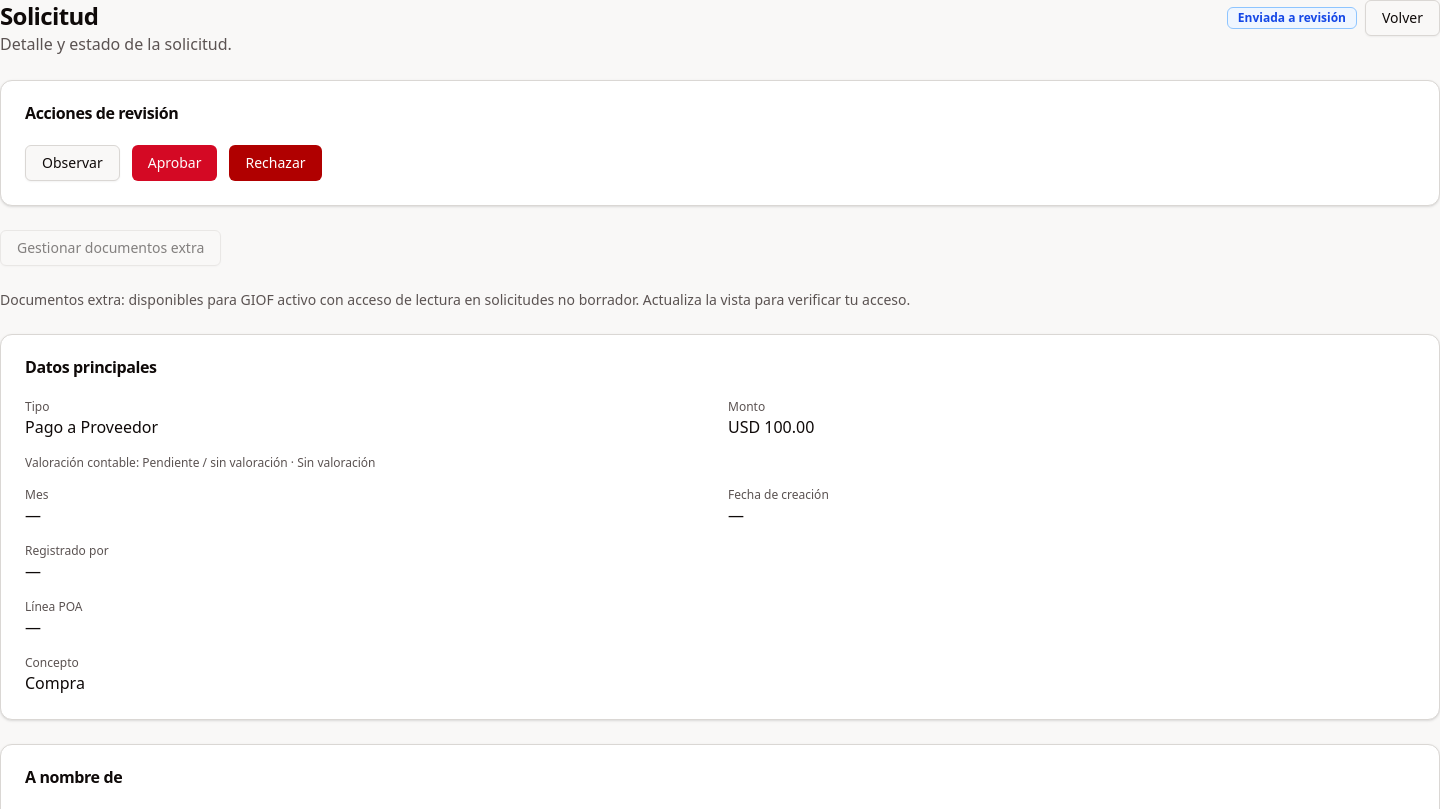
Test: ordinary USD approval manual FX › directs monthly missing-reference errors to Manager without a manual fallback
Step 1. Click the button "Aprobar" → (175, 163), box [132,145,218,181]
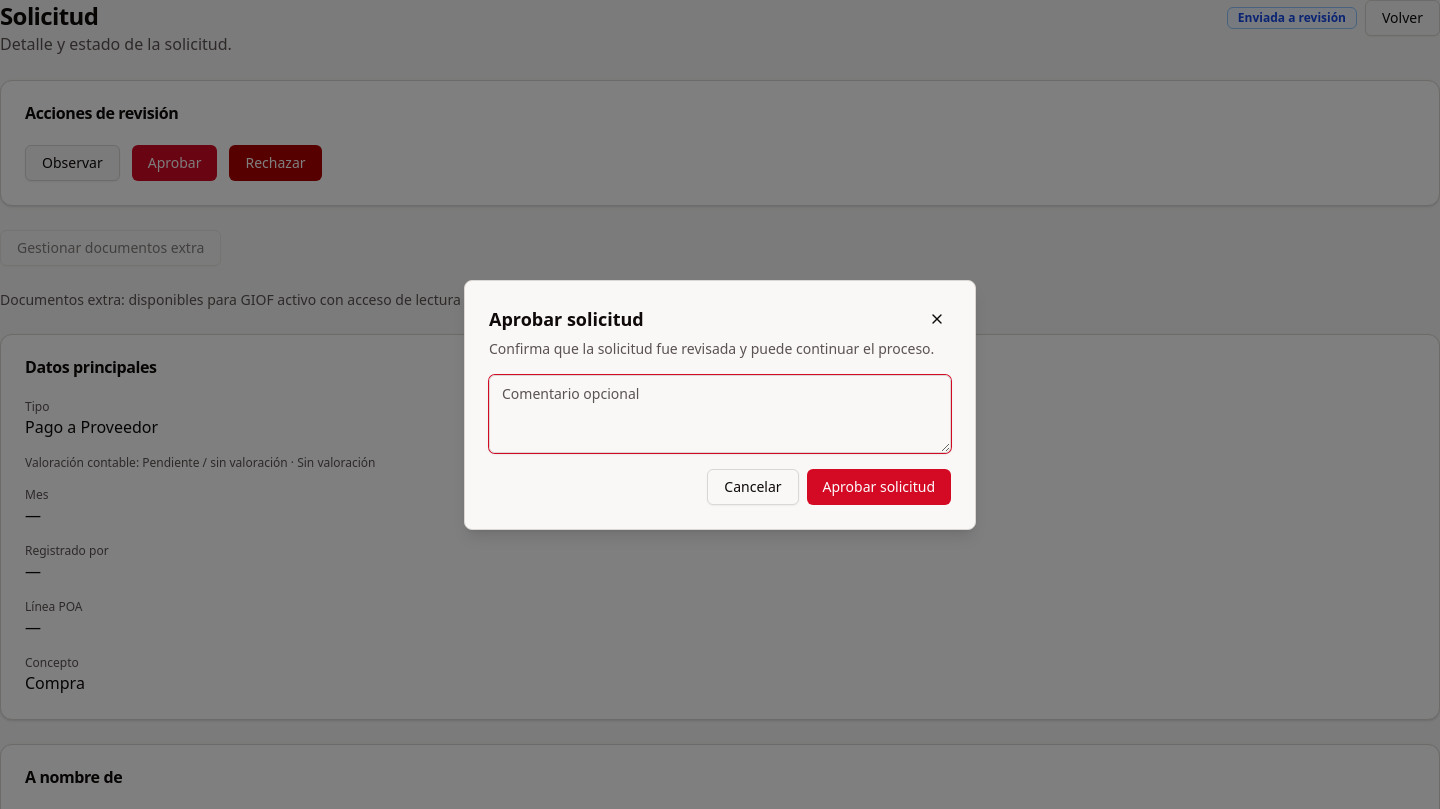
Step 2. Click the button "Aprobar solicitud" → (879, 487), box [806,469,951,505]
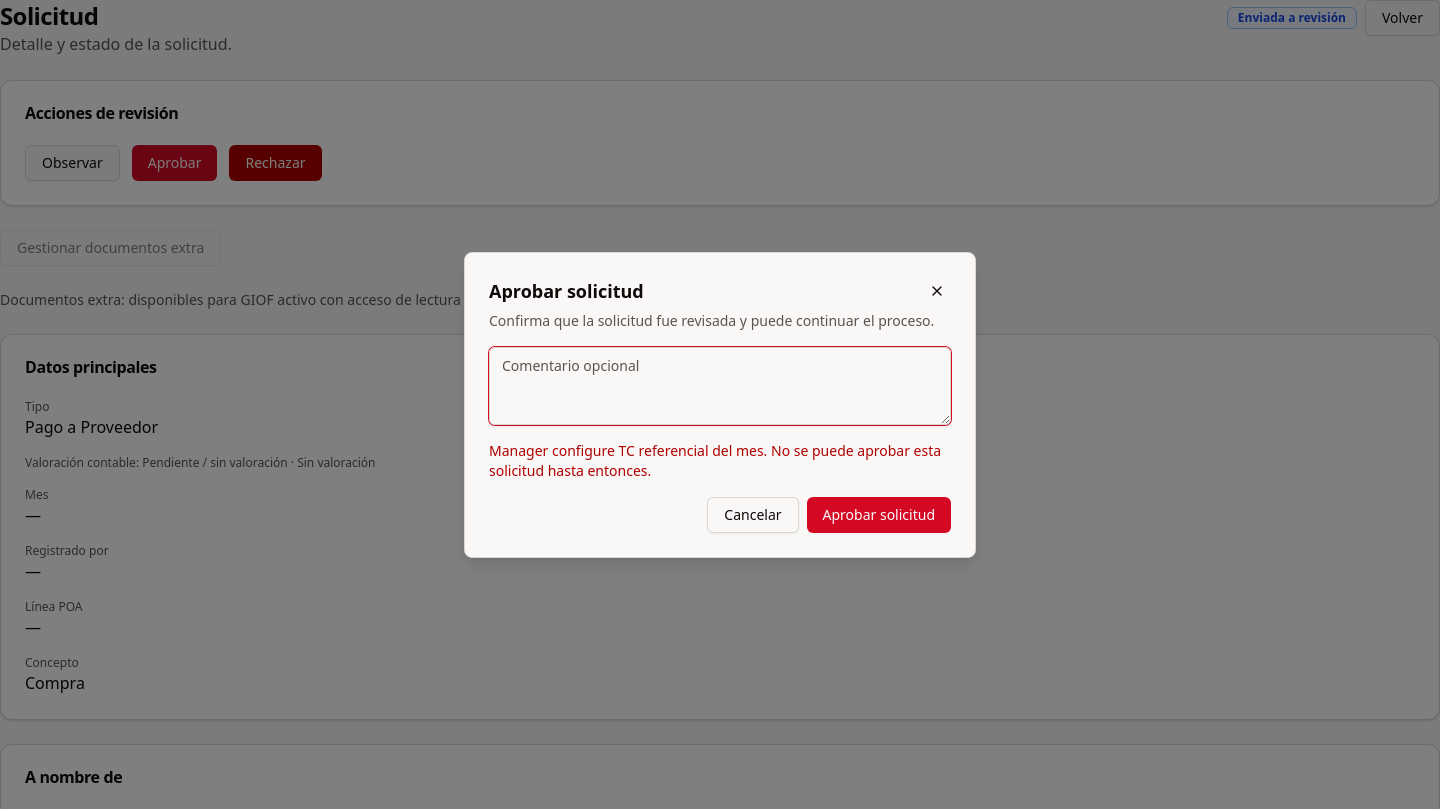
Now the message shows "Manager configure TC referencial del mes", box [489,441,941,480]
